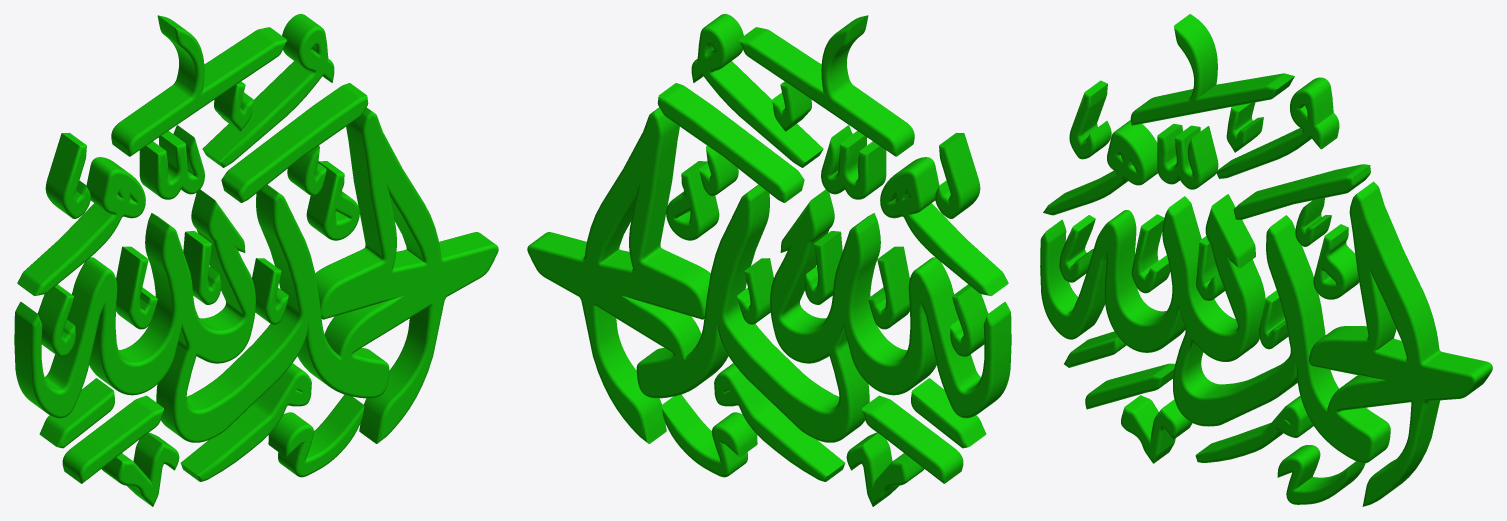
The picture shows the model from 3 angles, left to right: view 1: azimuth 30°, elevation 25°; view 2: azimuth 150°, elevation 25°; view 3: azimuth 330°, elevation 25°; orthographic projection. The views are drawn at different scales.
Parts seen in each view (by area): view 1: ALhamd, Cap_1, Rounding_1, Rounding_2; view 2: ALhamd, Cap_2, Rounding_2, Rounding_1; view 3: ALhamd, Cap_1, Rounding_1, Rounding_2.
Boxes of the visible parts, x1,y1,x2,y2 form: ALhamd: [15, 14, 495, 505]; Cap_1: [36, 31, 496, 502]; Rounding_1: [31, 26, 498, 506]; Rounding_2: [14, 14, 477, 471]; ALhamd: [530, 14, 1010, 505]; Cap_2: [529, 31, 989, 502]; Rounding_2: [527, 26, 994, 506]; Rounding_1: [548, 14, 1011, 471]; ALhamd: [1047, 14, 1492, 493]; Cap_1: [1042, 32, 1472, 503]; Rounding_1: [1040, 25, 1476, 506]; Rounding_2: [1062, 14, 1492, 477].
Bounding box in the file's own units: 4.43 × 4.36 × 0.3296.
